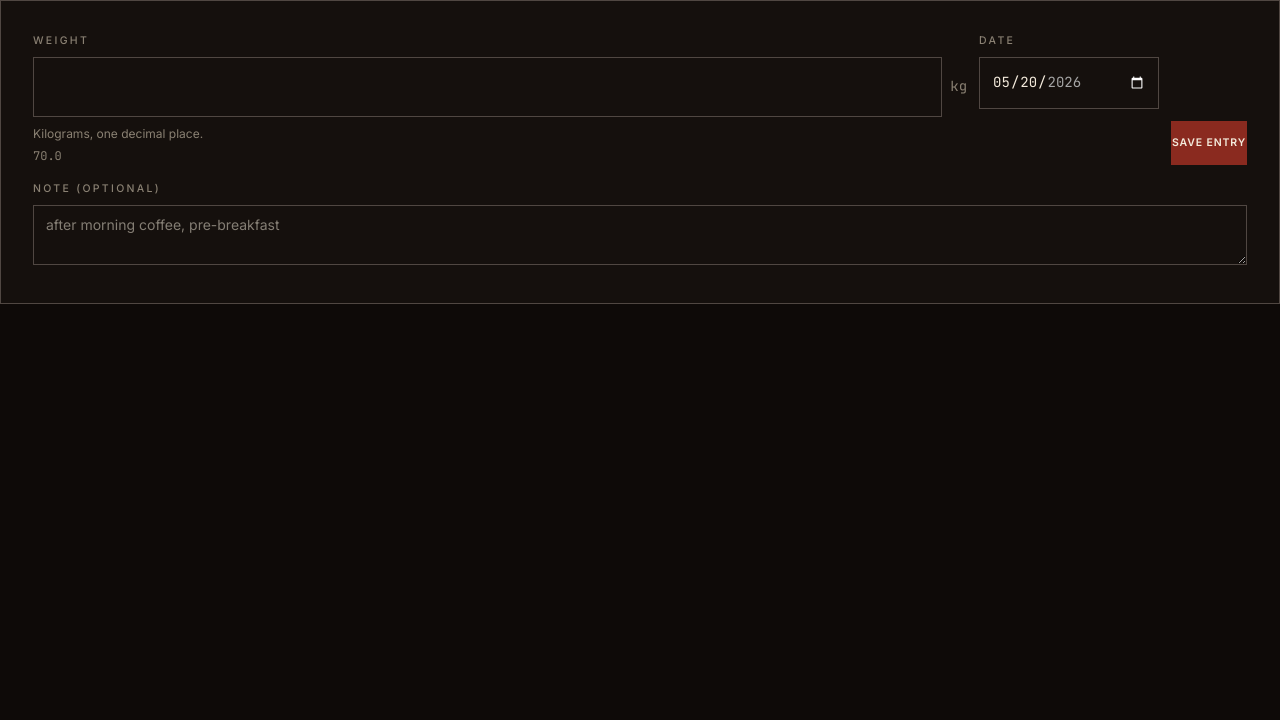
it: <WeightQuickAdd /> › M4 — dismissing the rollback toast returns focus to the weight input
Type "71.4" into the number field with test id "weight-quick-add-input" at (488, 87), box [33, 57, 942, 117]
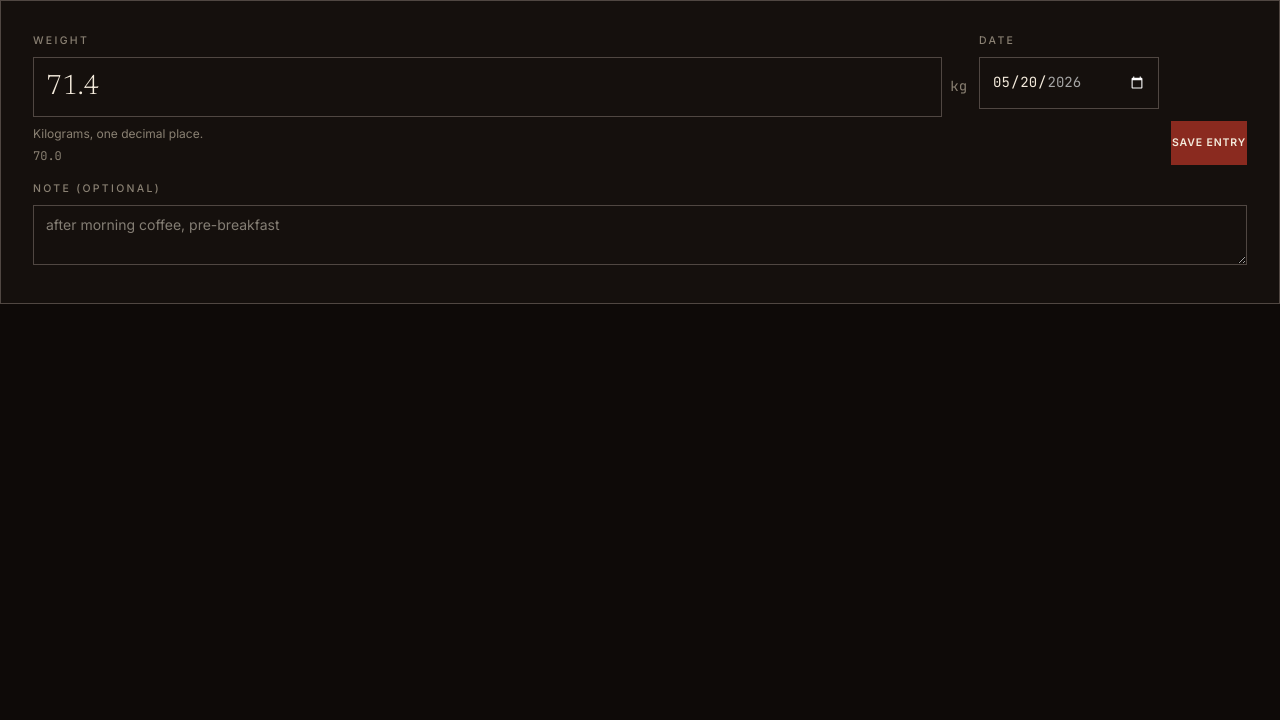
Submit the form with test id "weight-quick-add-submit", box [33, 33, 1247, 270]
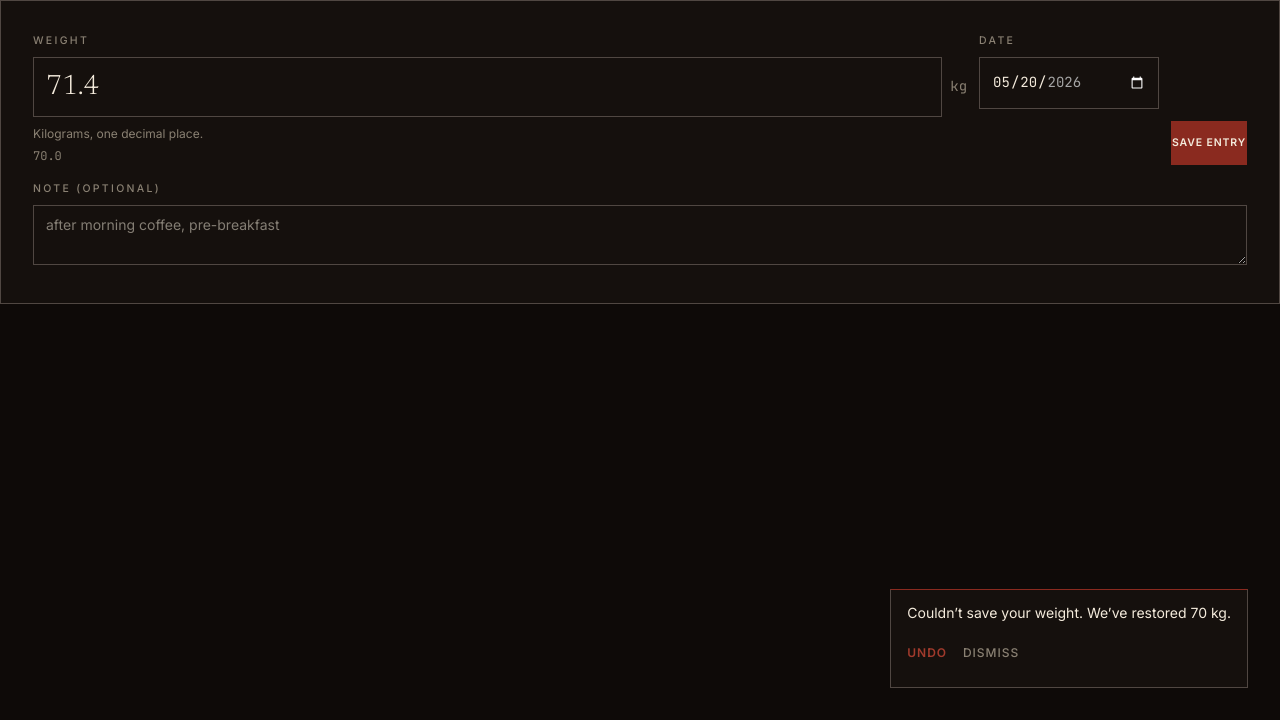
Expected: the button with test id "weight-rollback-dismiss" is shown
Click the button with test id "weight-rollback-dismiss" at (991, 653), box [963, 631, 1019, 675]
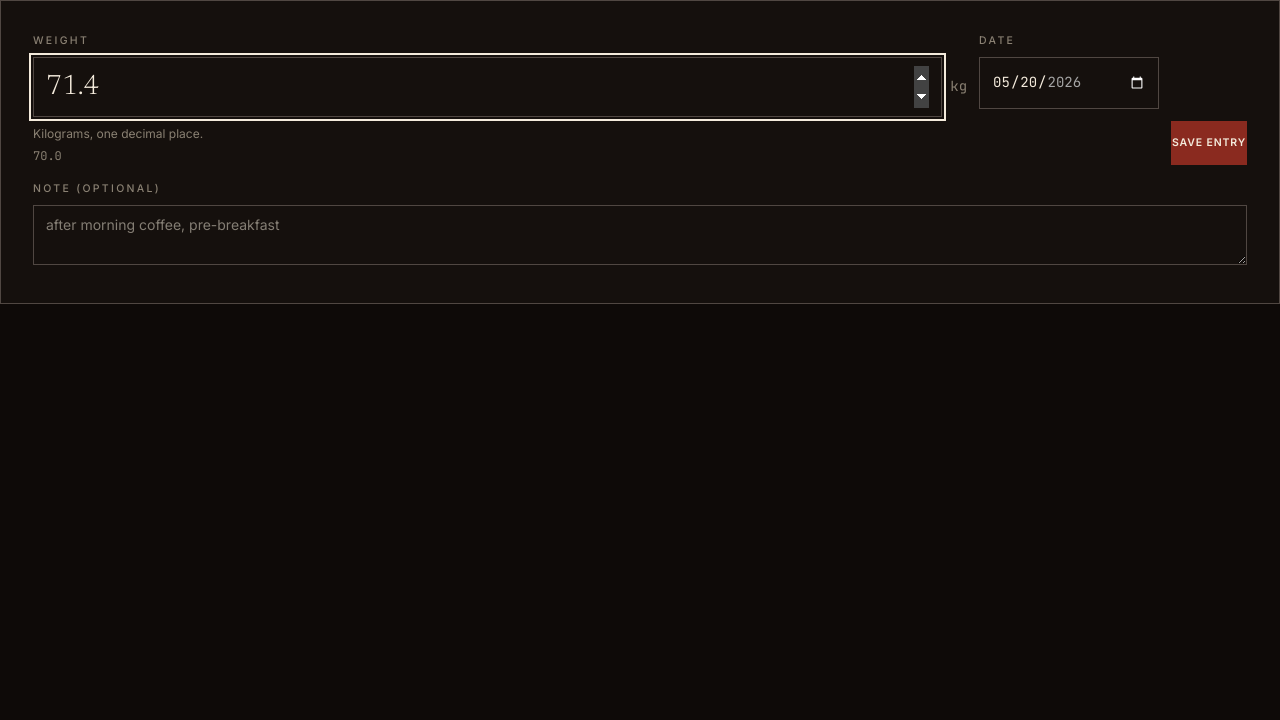
Expected: the message with test id "weight-rollback-toast" is gone
